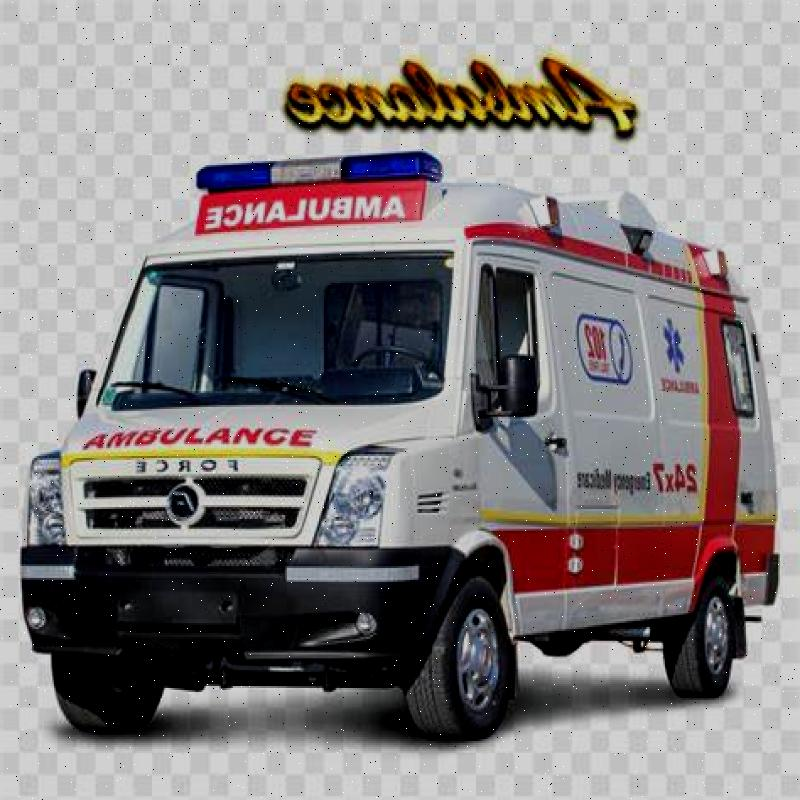AmbulanceSiren: (174, 124, 449, 222)
